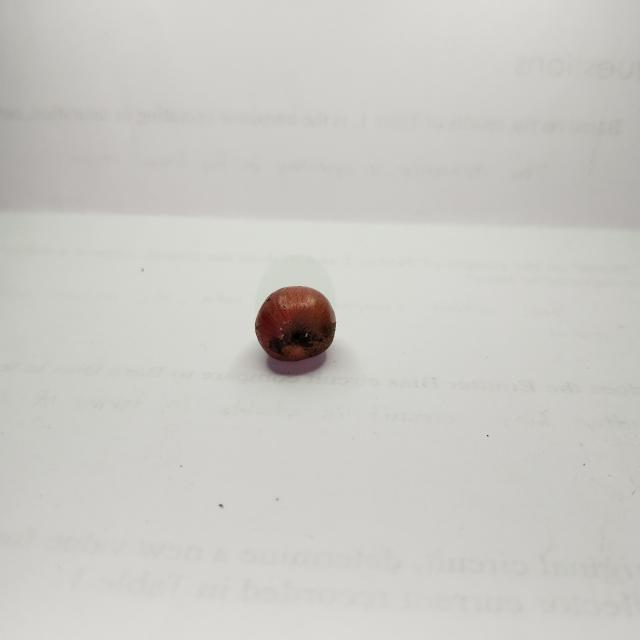Infectado: (255, 286, 337, 362)
